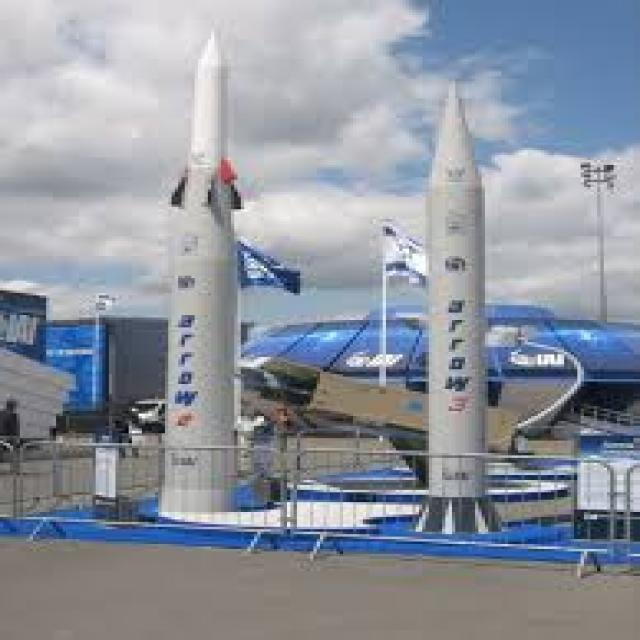missile: (409, 73, 516, 530), (162, 28, 258, 502)
